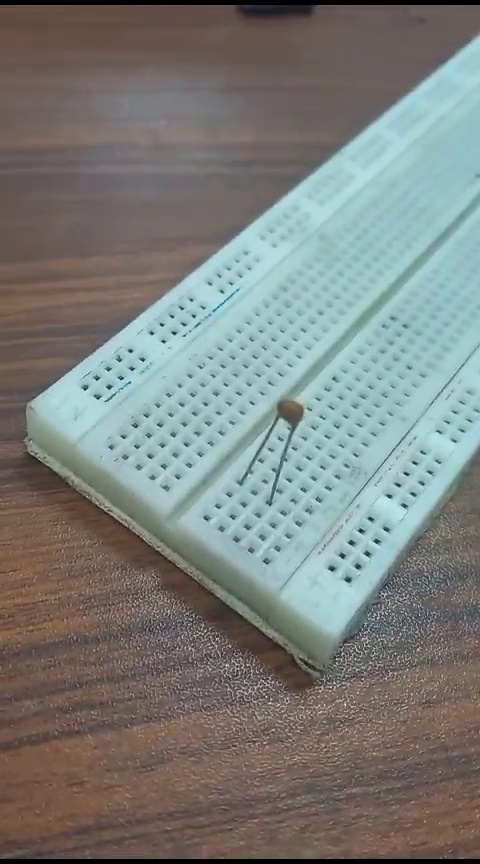ceramic capacitor: (258, 383, 318, 496)
